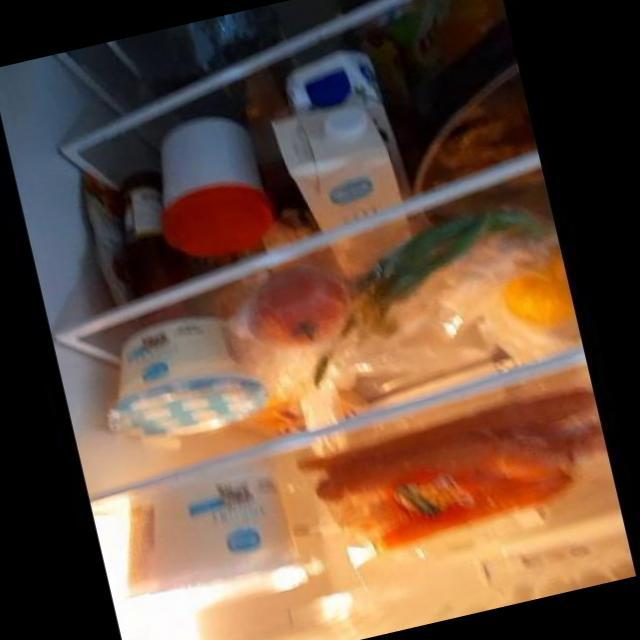Limón: (485, 249, 575, 339)
Yogur: (115, 453, 304, 602), (95, 304, 269, 449)
Zanahoria: (310, 393, 615, 564)
green chilies: (340, 202, 551, 314)
milk: (256, 54, 406, 222)
sauce: (103, 182, 183, 292)
tomato paste: (239, 273, 346, 353)
